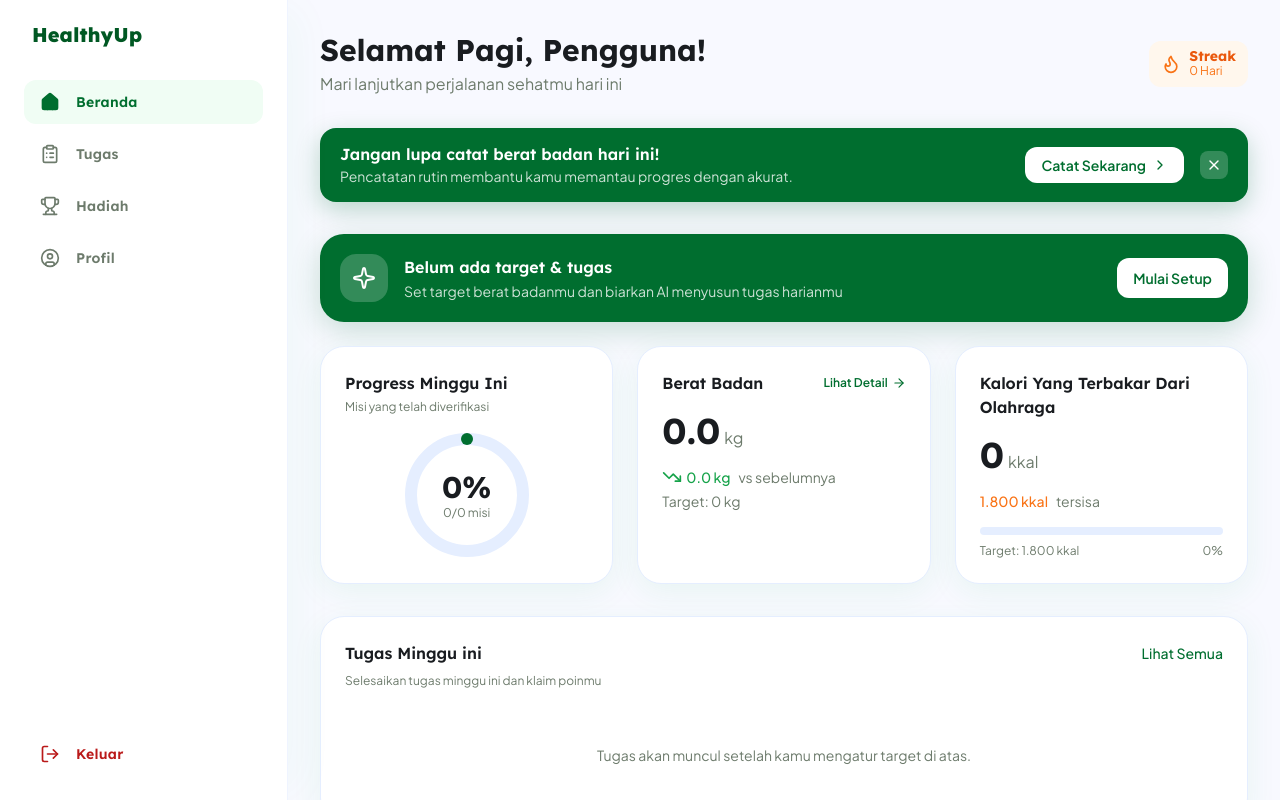
Test: Dashboard Page › banner pengingat hilang setelah tombol tutup diklik
The width and height of the screenshot is (1280, 800).
Expected: the text "Jangan lupa catat berat badan hari ini!" is shown, [340, 144, 659, 164]
Click the button named "tutup pengingat".
click(1214, 165)  # box [1200, 151, 1228, 179]
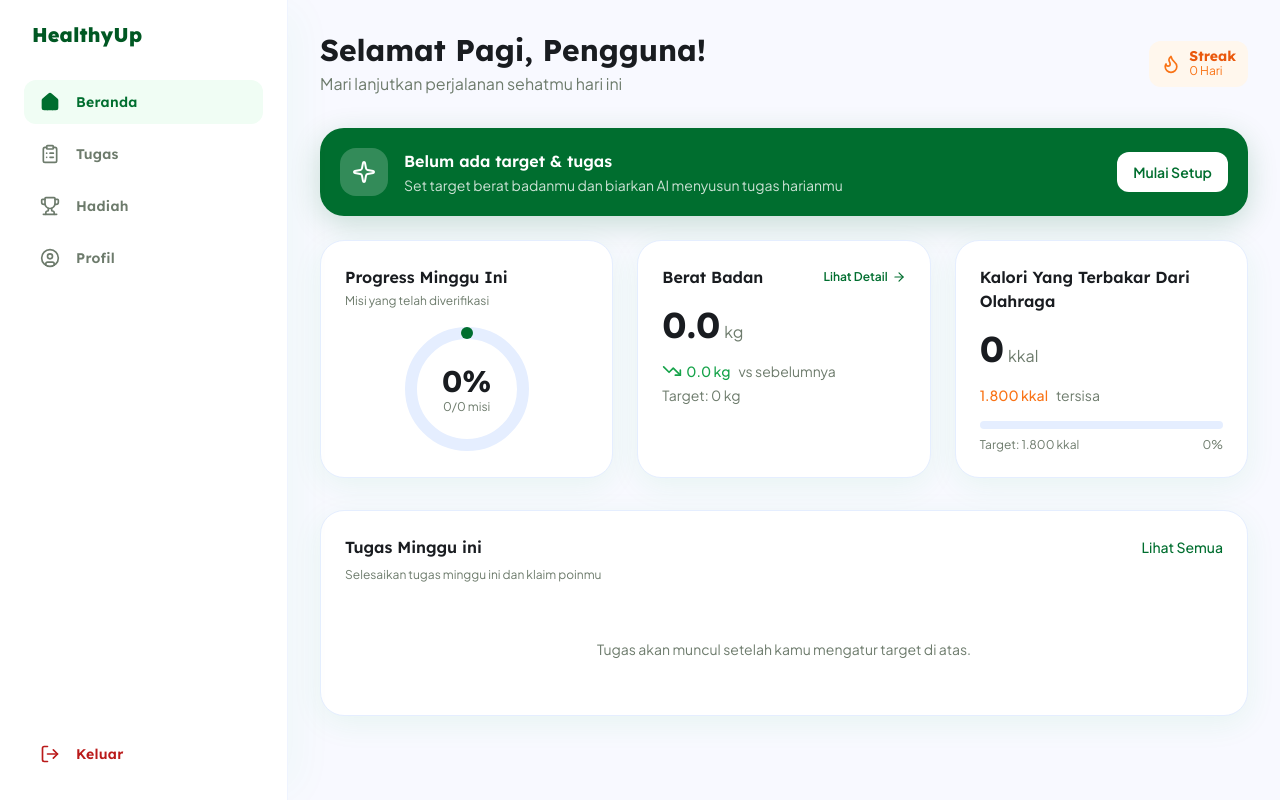
Expected: the text "Jangan lupa catat berat badan hari ini" is gone
